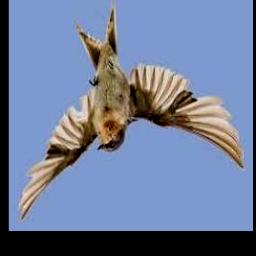Swallow: (19, 0, 245, 223)
